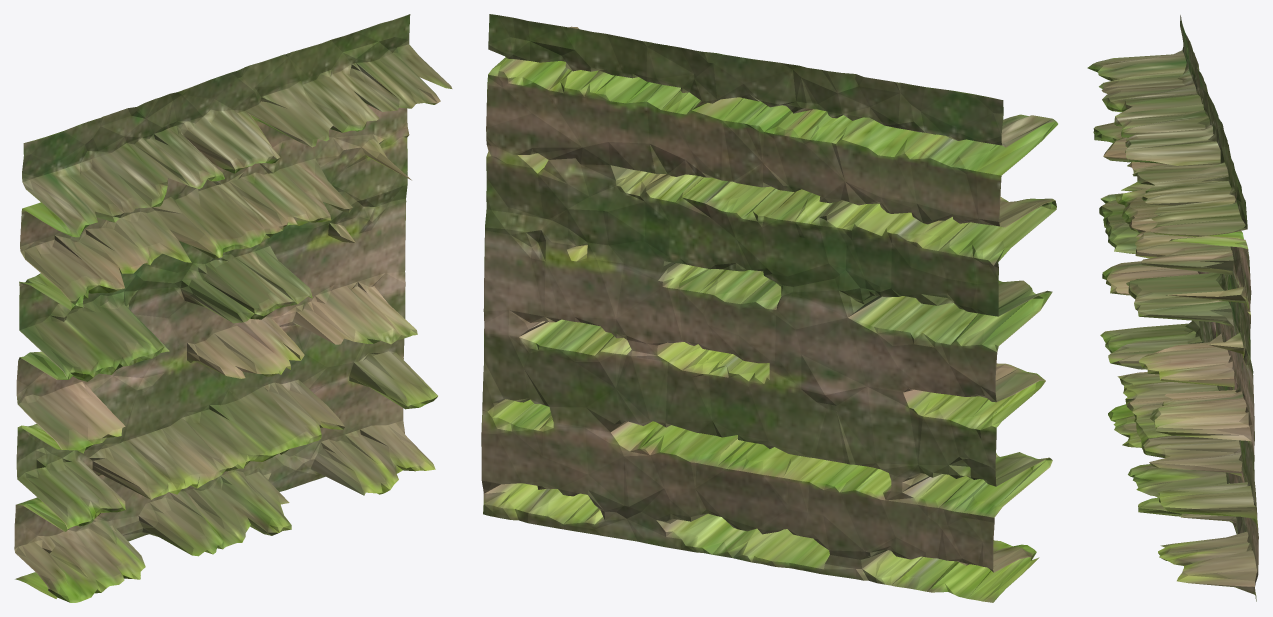
The model's file is map_220_50.obj.
The picture shows the model from 3 angles, left to right: view 1: azimuth 30°, elevation 25°; view 2: azimuth 150°, elevation 25°; view 3: azimuth 270°, elevation 25°; orthographic projection. The views are drawn at different scales.
Parts seen in each view (by area): view 1: grp1; view 2: grp1; view 3: grp1.
Boxes of the visible parts, x1,y1,x2,y2 form: grp1: (14,14,452,602); grp1: (481,14,1057,602); grp1: (1087,15,1258,601).
Bounding box in the file's own units: 10 × 10 × 3.87.
1 material, 1 textured.
